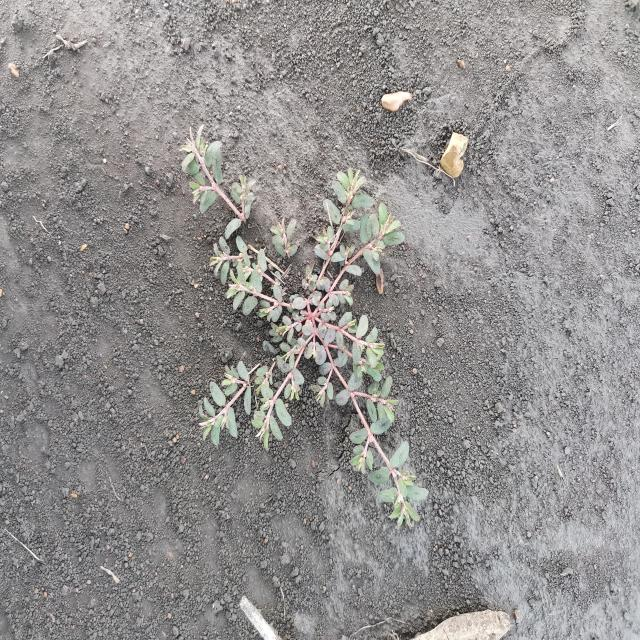SpottedSpurge: (178, 123, 430, 535)
